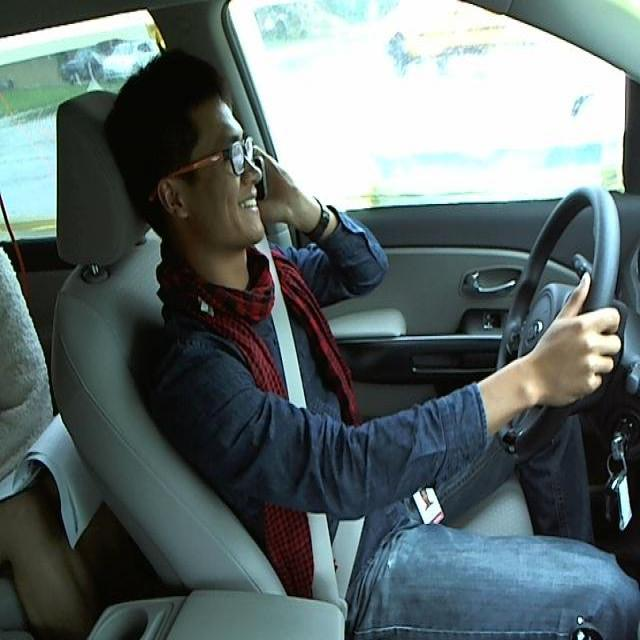using_phone: (99, 24, 318, 347)
